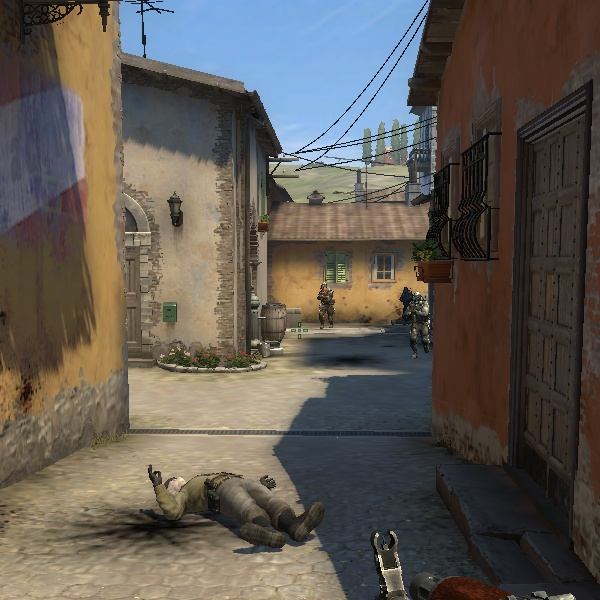t_body: (312, 280, 338, 327)
